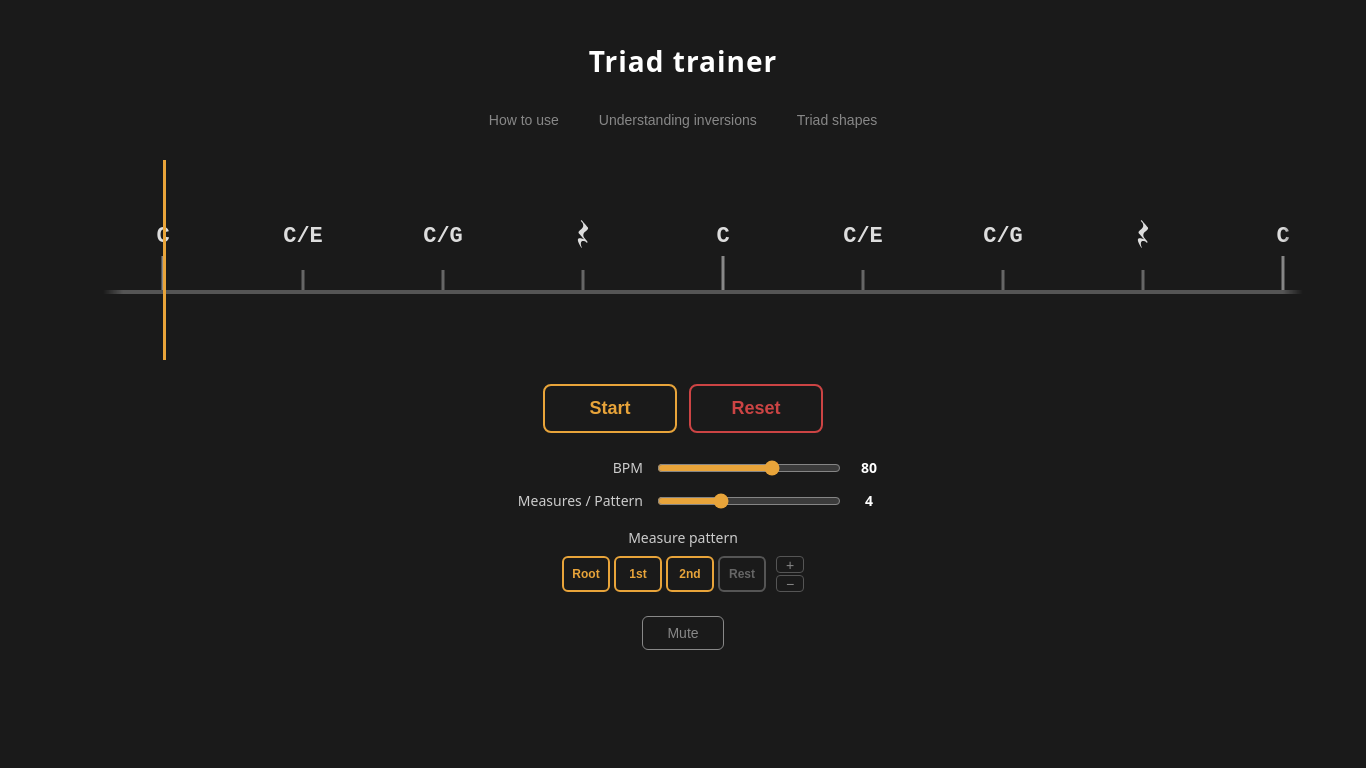
Test: App › structure settings are disabled while playing
Click the button "Start".
click(610, 408)  # box [543,384,677,433]
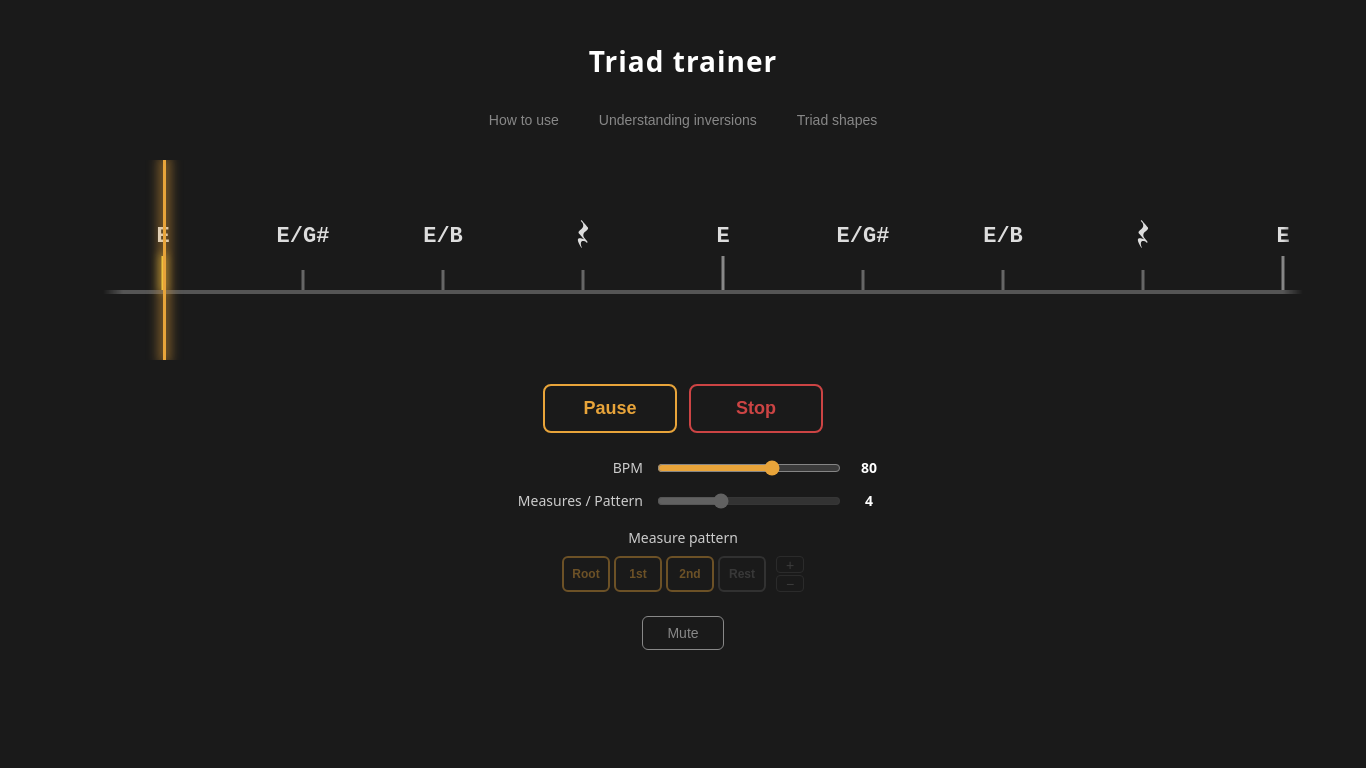
Check: the slider labelled "BPM" is enabled, box [657,460,841,476]
Check: the slider labelled "Measures / Pattern" is disabled, box [657,492,841,508]
